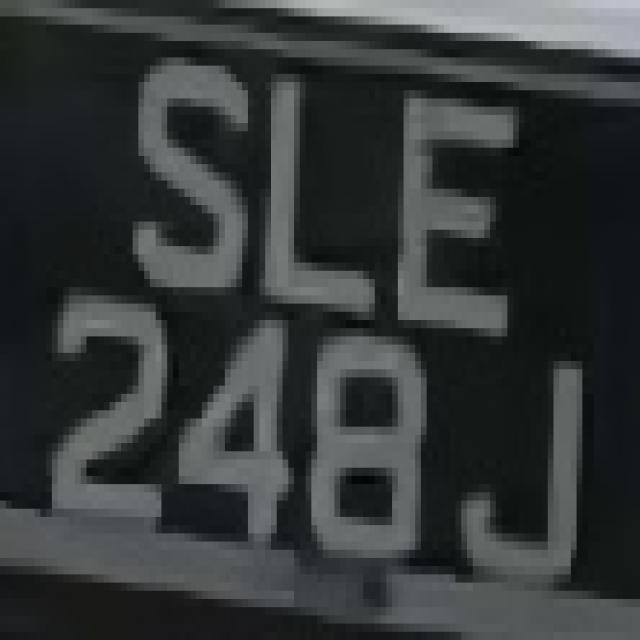2: (52, 230, 173, 558)
4: (190, 288, 300, 574)
8: (288, 271, 432, 599)
E: (386, 49, 530, 345)
J: (456, 328, 588, 616)
L: (254, 49, 392, 328)
S: (121, 41, 254, 312)
